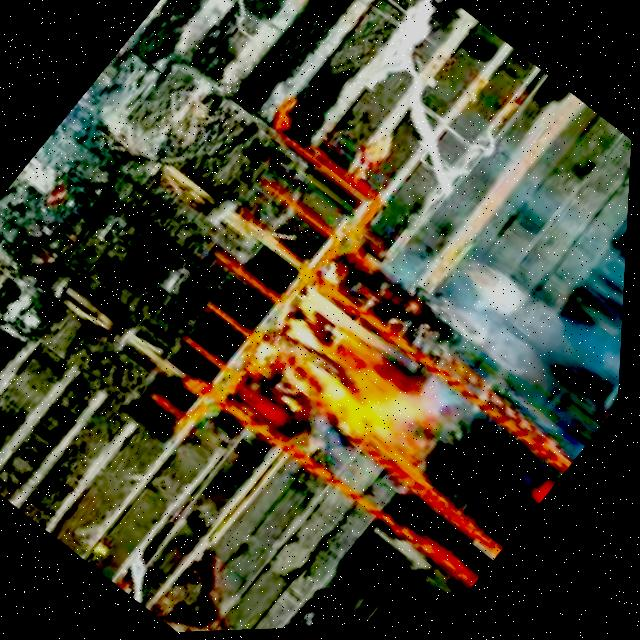Fire: (253, 279, 469, 477)
